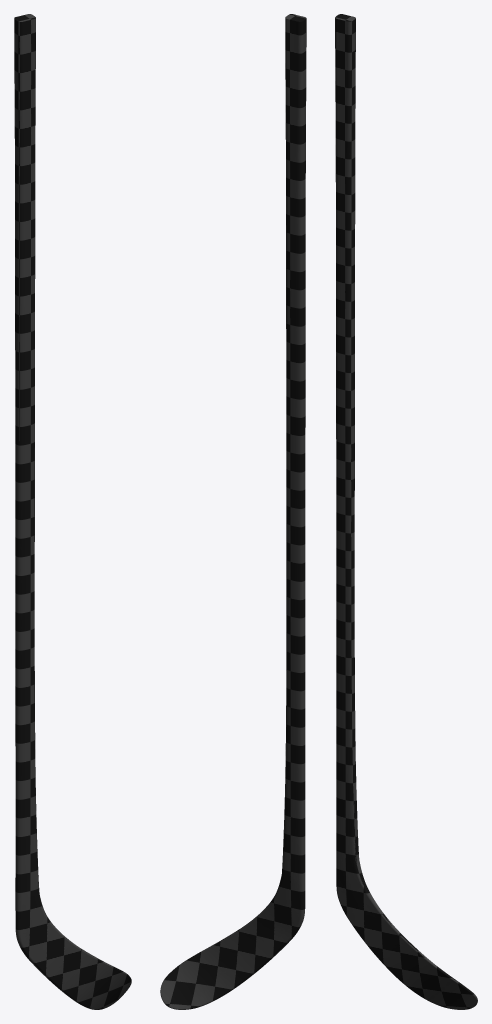
The model's file is P61-SBO.glb.
The picture shows the model from 3 angles, left to right: view 1: azimuth 30°, elevation 25°; view 2: azimuth 150°, elevation 25°; view 3: azimuth 330°, elevation 25°; orthographic projection. The views are drawn at different scales.
Parts seen in each view (by area): view 1: geometry_0; view 2: geometry_0; view 3: geometry_0.
Part boxes in pixels (box(x1,y1,x2,y2)): geometry_0: box(14, 14, 131, 1009); geometry_0: box(160, 14, 306, 1009); geometry_0: box(335, 14, 477, 1009).
Size of the model in its own units: 220 by 1650 by 68.24.
Materials: 1 (1 with a texture image).
